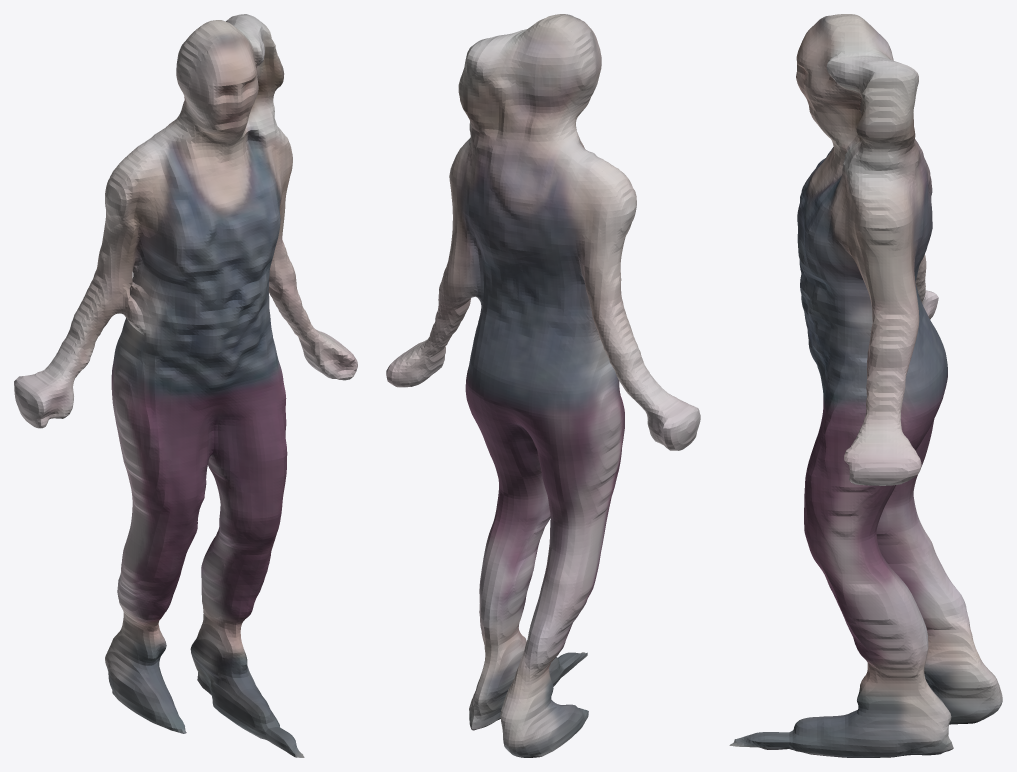
Rendered from 0179_tex.glb.
3 views of the same model, side by side, from view 1: azimuth 30°, elevation 25°; view 2: azimuth 150°, elevation 25°; view 3: azimuth 270°, elevation 25° (orthographic). The views are drawn at different scales.
Visible parts, largest first — view 1: 0179_tex.obj; view 2: 0179_tex.obj; view 3: 0179_tex.obj.
Part boxes in pixels (bbox=[...]): 0179_tex.obj: bbox=[14, 14, 357, 757]; 0179_tex.obj: bbox=[386, 14, 700, 757]; 0179_tex.obj: bbox=[729, 14, 1002, 757].
Size of the model in its own units: 0.413 by 0.8931 by 0.3068.
